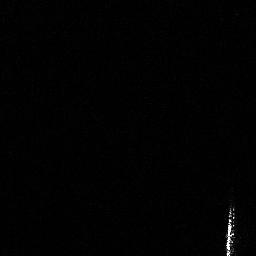ship: (221, 202, 243, 256)
